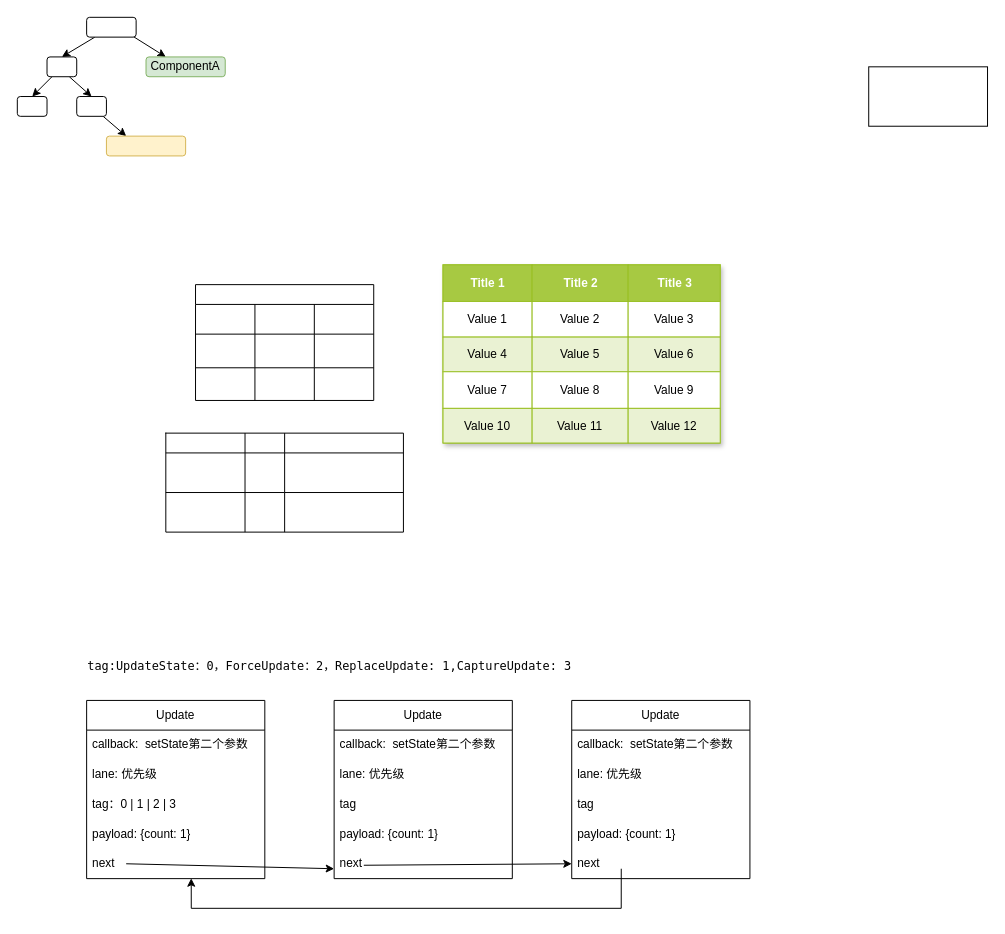
This 1005x934 diagram has some shape labels left out. The centre of each missing label's shape, as x and y in pixels:
"ComponentB" belongs at pixel 145 145.
"subRoot" belongs at pixel 111 26.
